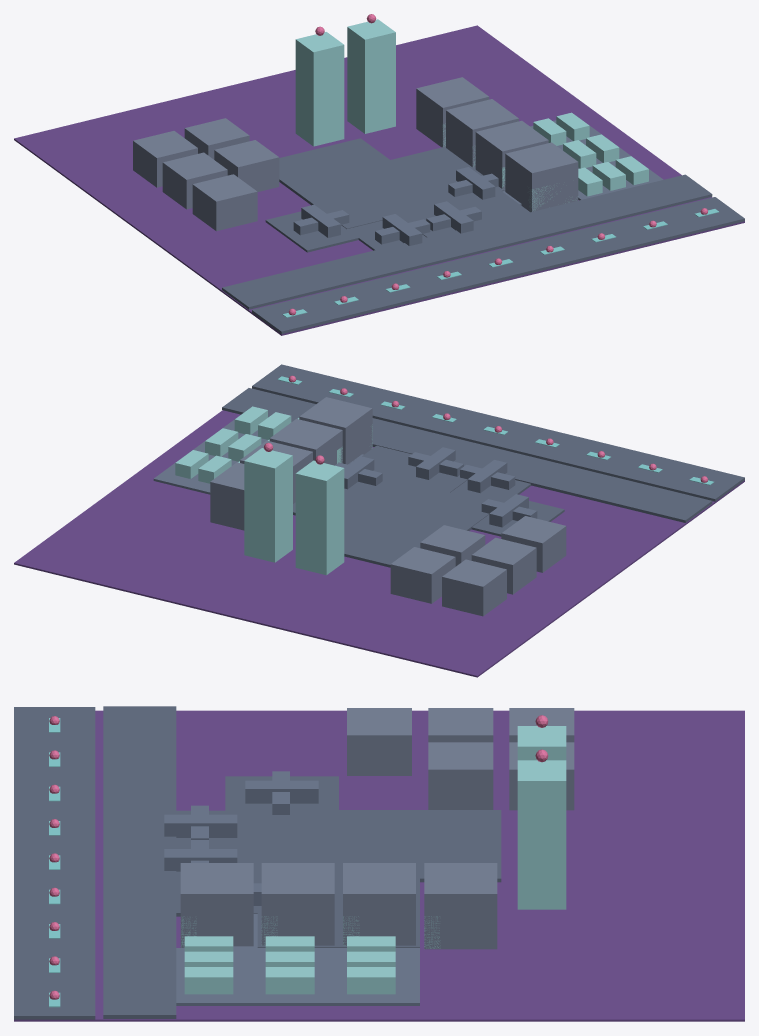
The model's file is stage_25.glb.
The picture shows the model from 3 angles, top to bottom: view 1: azimuth 30°, elevation 25°; view 2: azimuth 150°, elevation 25°; view 3: azimuth 270°, elevation 25°; orthographic projection. The views are drawn at different scales.
Visible parts, largest first — view 1: geometry_0; view 2: geometry_0; view 3: geometry_0.
Boxes of the visible parts, <box> form: geometry_0: <box>14,14,744,335</box>; geometry_0: <box>14,364,744,677</box>; geometry_0: <box>14,706,744,1021</box>.
Size of the model in its own units: 9 by 2.06 by 9.
